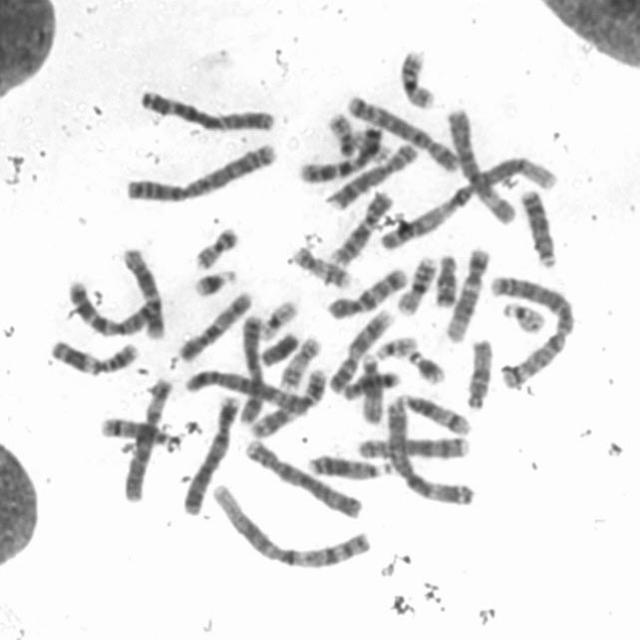A1: (377, 155, 561, 253), (210, 483, 372, 571)
A2: (485, 276, 579, 391), (122, 143, 279, 205)
A3: (386, 396, 478, 508), (135, 90, 276, 134)
B4: (245, 433, 366, 522), (180, 393, 242, 518)
B5: (345, 95, 458, 172), (184, 369, 310, 416)
C10: (177, 290, 256, 364), (325, 266, 408, 321)
C11: (249, 367, 329, 439), (49, 341, 137, 377)
C12: (444, 247, 492, 346), (120, 245, 167, 340)
C6: (446, 108, 518, 227), (122, 378, 174, 503)
C7: (68, 280, 161, 340), (298, 125, 383, 187)
C8: (326, 142, 417, 212), (355, 432, 470, 460)
C9: (326, 309, 395, 396), (328, 188, 395, 268)
D13: (518, 190, 558, 268), (308, 452, 394, 482)
D14: (399, 390, 474, 436), (99, 416, 184, 455)
D15: (466, 338, 498, 410), (359, 351, 386, 426)
E16: (394, 254, 438, 317), (398, 46, 437, 111)
E17: (292, 245, 354, 291), (279, 337, 322, 393)
E18: (343, 371, 402, 402), (434, 254, 458, 310)
F19: (255, 298, 299, 344), (349, 122, 392, 165)
F20: (193, 225, 240, 270), (327, 111, 357, 158)
G21: (408, 349, 450, 386), (192, 267, 238, 297)
G22: (501, 302, 548, 337), (375, 334, 421, 362)
X: (239, 314, 267, 426)
Y: (259, 329, 302, 369)
